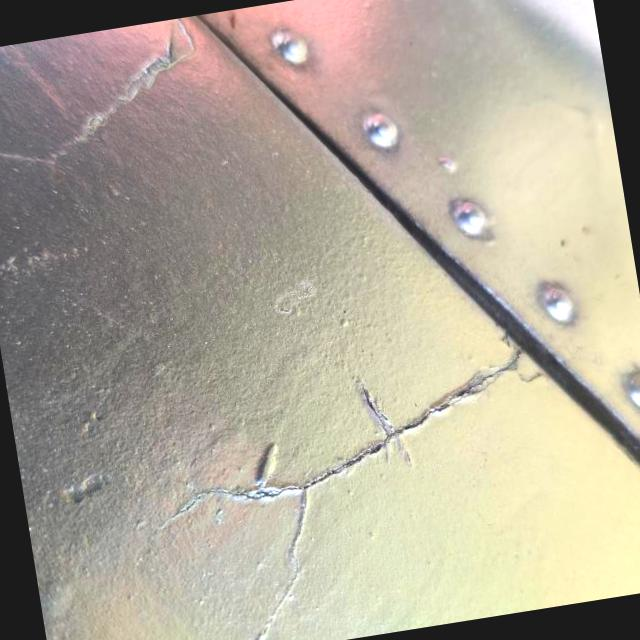crack: (134, 326, 572, 605)
